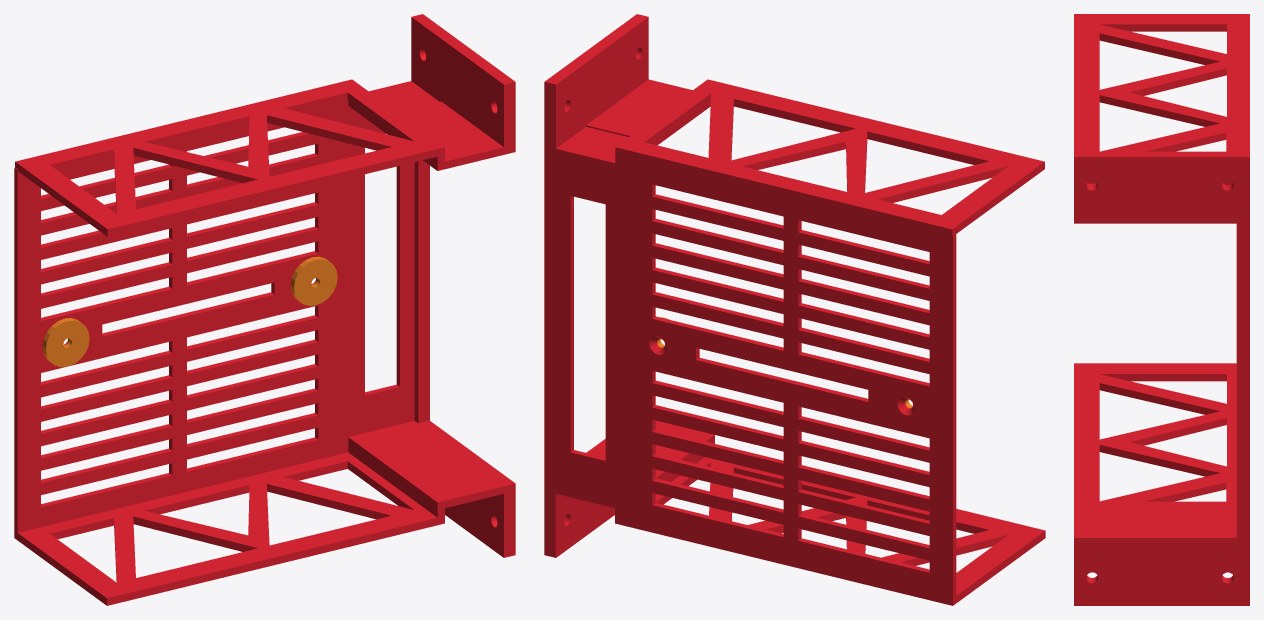
File: tinker.obj
3 views of the same model, side by side, from view 1: azimuth 30°, elevation 25°; view 2: azimuth 150°, elevation 25°; view 3: azimuth 270°, elevation 25° (orthographic). The views are drawn at different scales.
Parts seen in each view (by area): view 1: group_0_15277357, group_0_16089887; view 2: group_0_15277357; view 3: group_0_15277357.
Boxes of the visible parts, x1=… form: group_0_15277357: x1=14, y1=14, x2=515, y2=605; group_0_16089887: x1=42, y1=256, x2=337, y2=367; group_0_15277357: x1=544, y1=14, x2=1045, y2=605; group_0_15277357: x1=1074, y1=14, x2=1249, y2=605.
Size of the model in its own units: 140 by 155 by 55.
